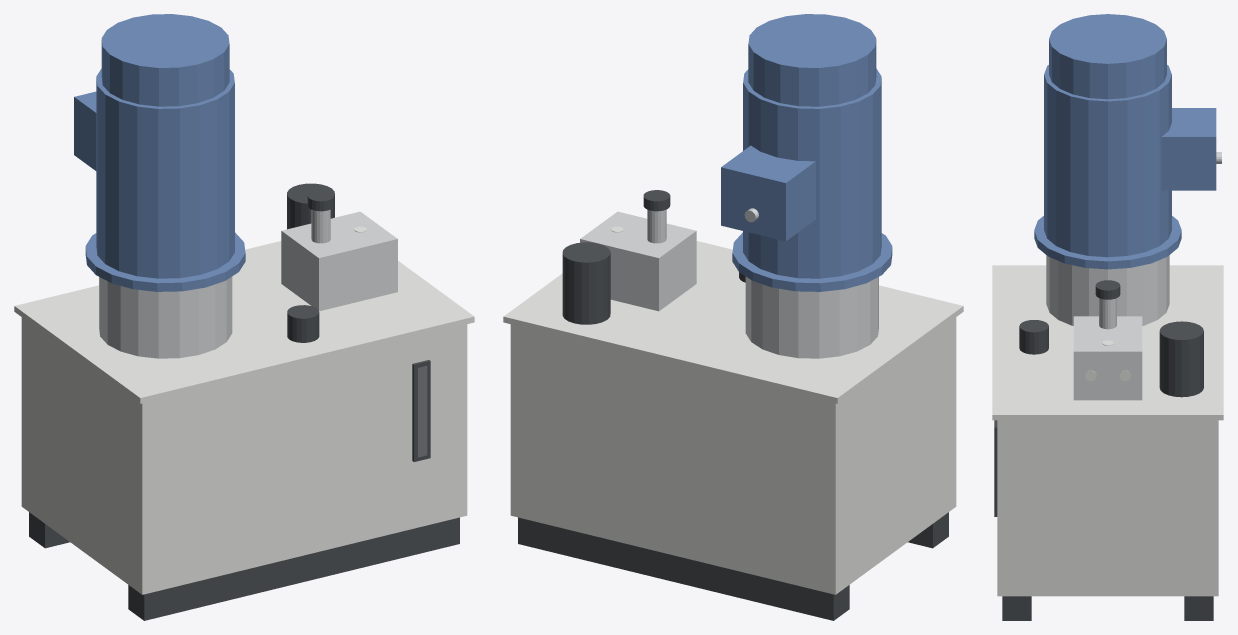
File: hpu-7.5kw.glb
3 renders of one model, left to right at view 1: azimuth 30°, elevation 25°; view 2: azimuth 150°, elevation 25°; view 3: azimuth 270°, elevation 25°, orthographic. The views are drawn at different scales.
Parts seen in each view (by area): view 1: body; view 2: body; view 3: body.
Boxes of the visible parts, x1,y1,x2,y2 form: body: (14,14,474,620); body: (503,14,963,620); body: (992,14,1223,620).
Size of what is drawn, in the model's own units: 0.72 by 1.07 by 0.47.
